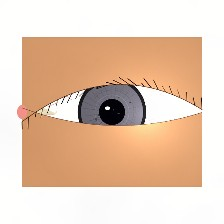pterygium_lesion: (23, 98, 60, 126)
